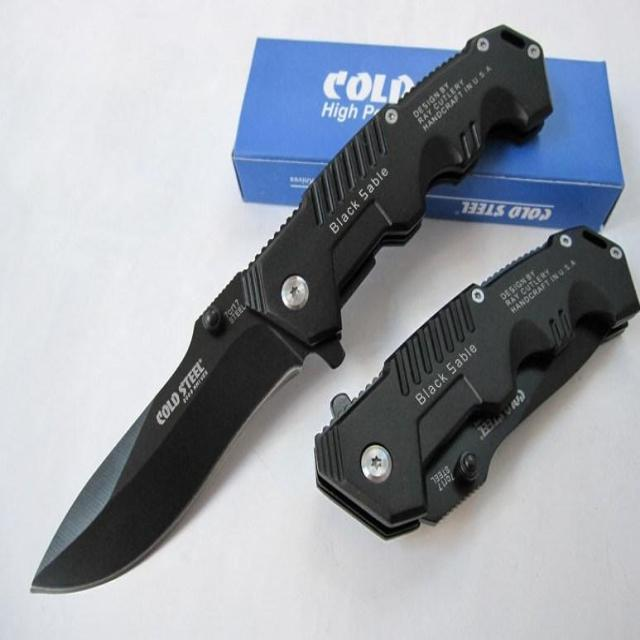knife: (18, 11, 559, 621)
